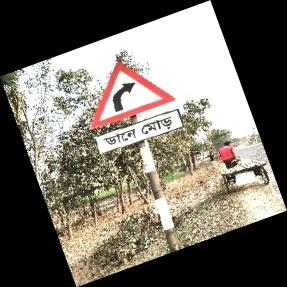Right-turn: (89, 61, 184, 156)
